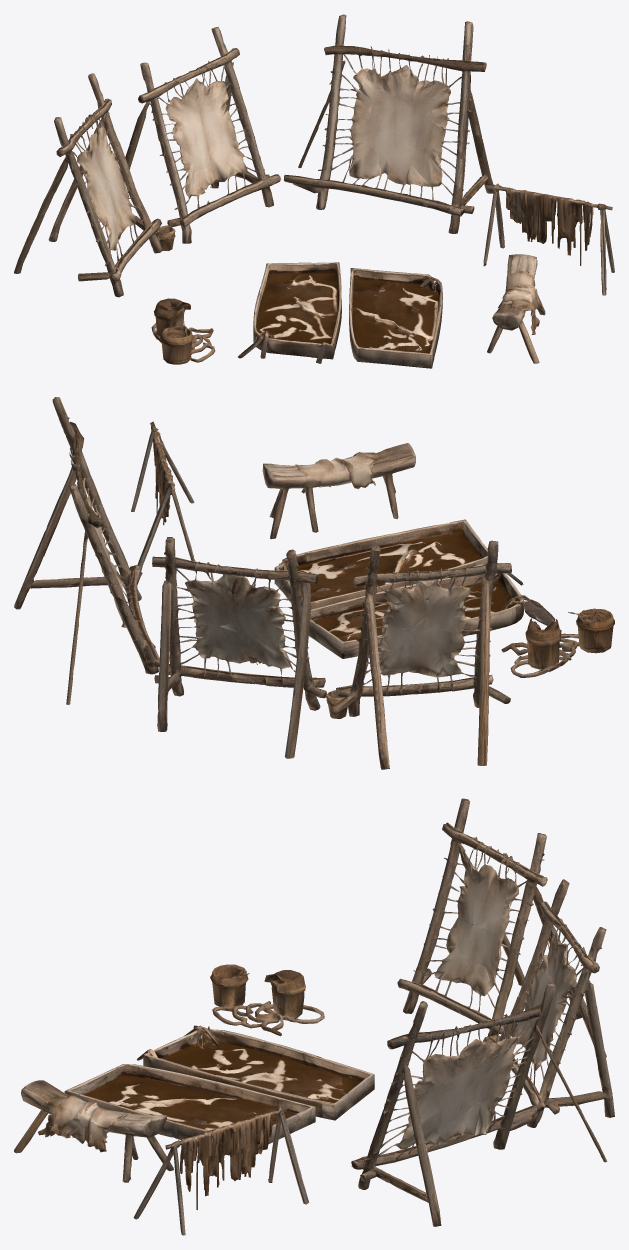
Rendered from o79_debbaghane_deri_gerdirme.glb.
3 renders of one model, top to bottom at view 1: azimuth 30°, elevation 25°; view 2: azimuth 150°, elevation 25°; view 3: azimuth 270°, elevation 25°, orthographic. The views are drawn at different scales.
Visible parts, largest first — view 1: mesh_node; view 2: mesh_node; view 3: mesh_node.
Part boxes in pixels (left/top/right/bottom): mesh_node: left=14, top=14, right=614, bottom=368; mesh_node: left=14, top=397, right=614, bottom=769; mesh_node: left=14, top=798, right=614, bottom=1235.
Bounding box in the file's own units: 1.89 × 0.7451 × 1.9.
1 material, 1 textured.
